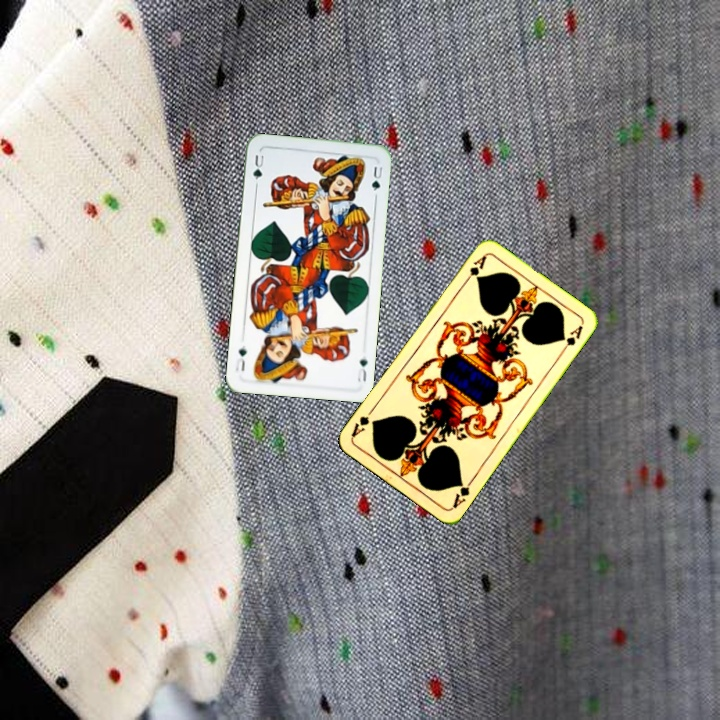GA: (460, 251, 489, 287), (448, 475, 476, 511)
GU: (249, 151, 266, 189), (353, 352, 370, 385)
